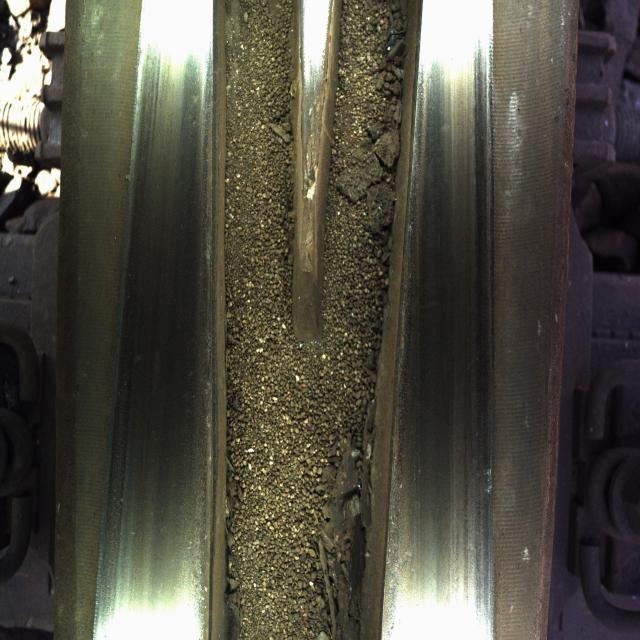break: (120, 94, 202, 635), (415, 59, 489, 629)
